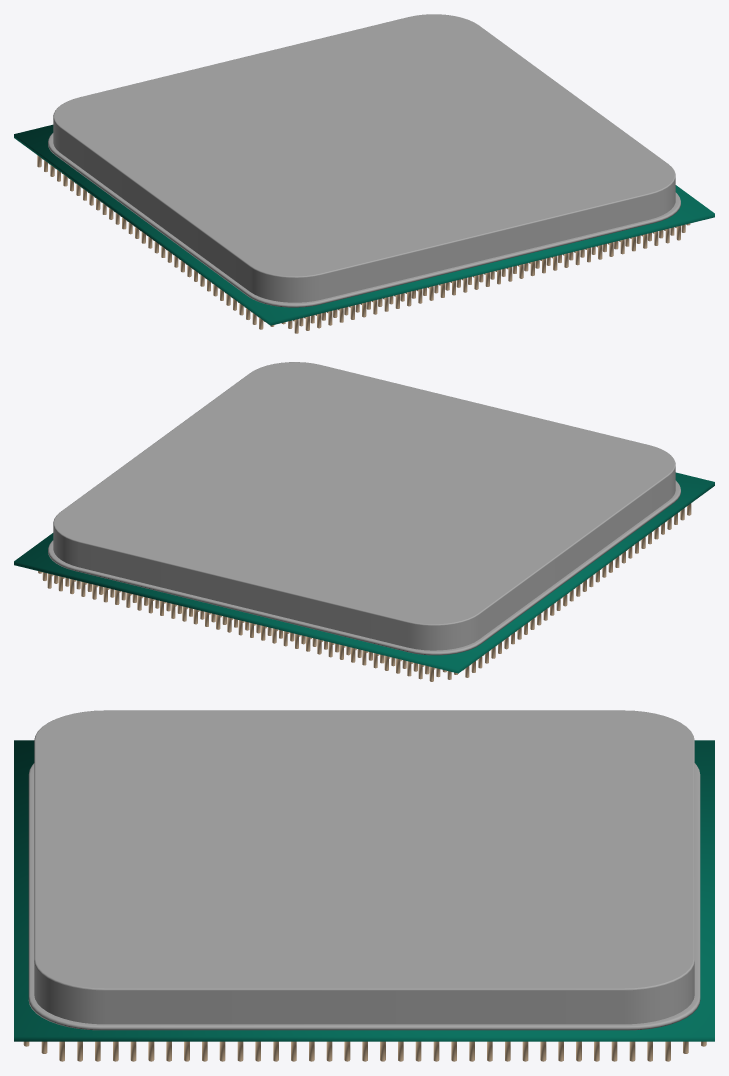
File: cpu.glb
3 views of the same model, one above another, from view 1: azimuth 30°, elevation 25°; view 2: azimuth 150°, elevation 25°; view 3: azimuth 270°, elevation 25° (orthographic). The views are drawn at different scales.
Visible parts, largest first — view 1: CPU; view 2: CPU; view 3: CPU.
Part boxes in pixels (x1,y1,x2,y2): CPU: (14, 14, 714, 333); CPU: (14, 362, 714, 681); CPU: (14, 710, 714, 1061).
Size of the model in its own units: 0.04 by 0.00434 by 0.04.
